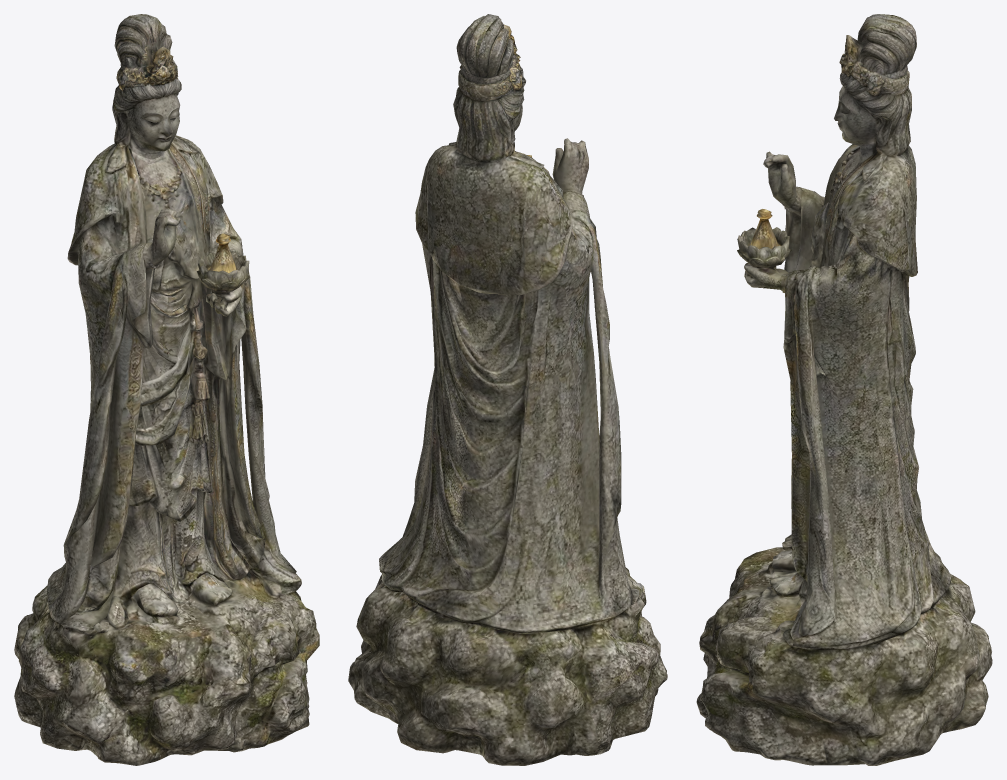
The model's file is guardian_b.lod1.glb.
The picture shows the model from 3 angles, left to right: view 1: azimuth 30°, elevation 25°; view 2: azimuth 150°, elevation 25°; view 3: azimuth 270°, elevation 25°; orthographic projection. The views are drawn at different scales.
Visible parts, largest first — view 1: clean; view 2: clean; view 3: clean.
Boxes of the visible parts, box(x1,y1,x2,y2) form: clean: box(14, 14, 319, 765); clean: box(348, 14, 667, 765); clean: box(696, 14, 992, 765).
Bounding box in the file's own units: 62.08 × 150 × 58.29.
1 material, 1 textured.
